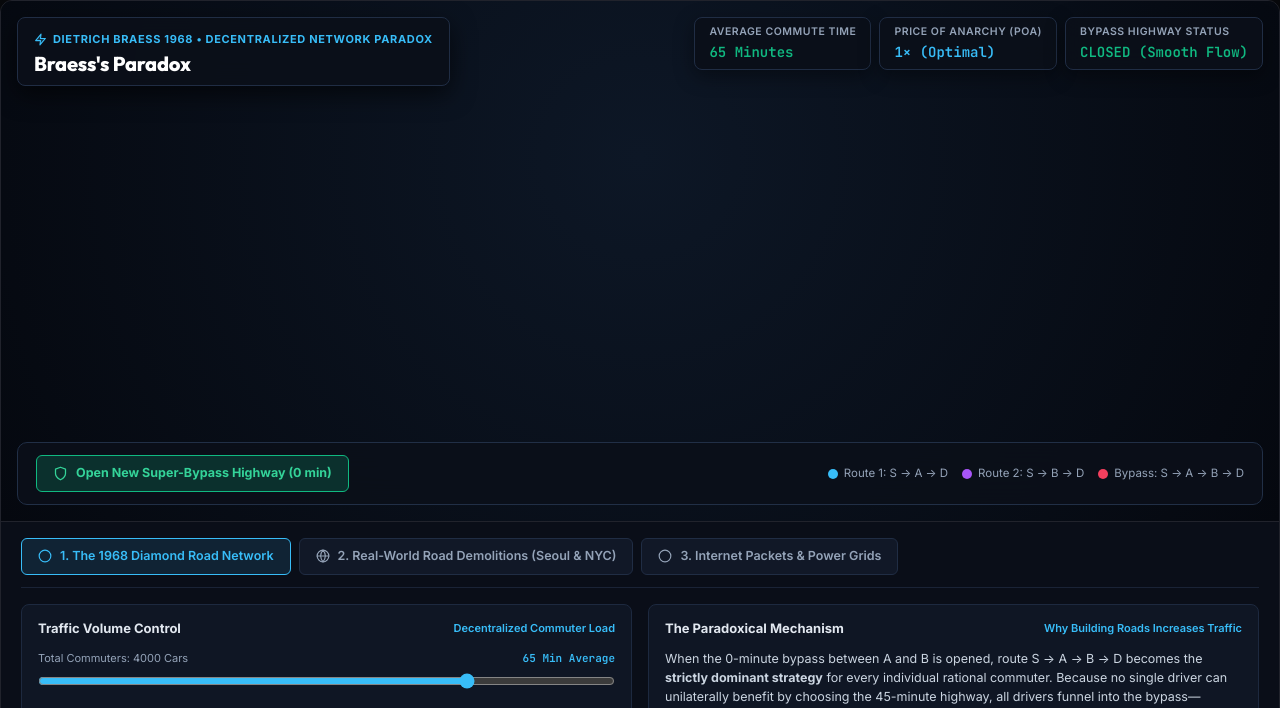
BraessParadox3DLab › adjusts commuter volume via slider in Tab 1
Set the slider named "Commuter Volume Slider" to "5000" at (607, 681), box [38,673,615,689]
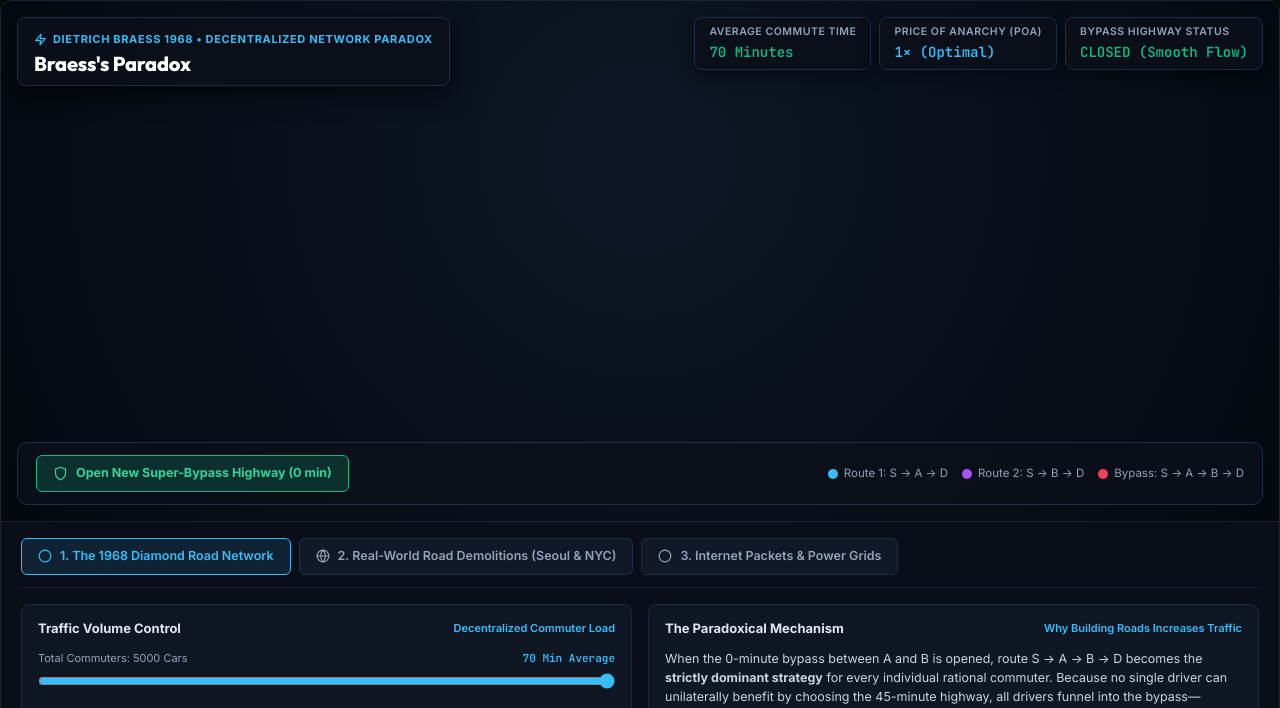
expect the text "70 Minutes" is shown: met, box [709,43,793,61]
expect the text "Total Commuters: 5000 Cars" is shown: met, box [38,650,188,667]
